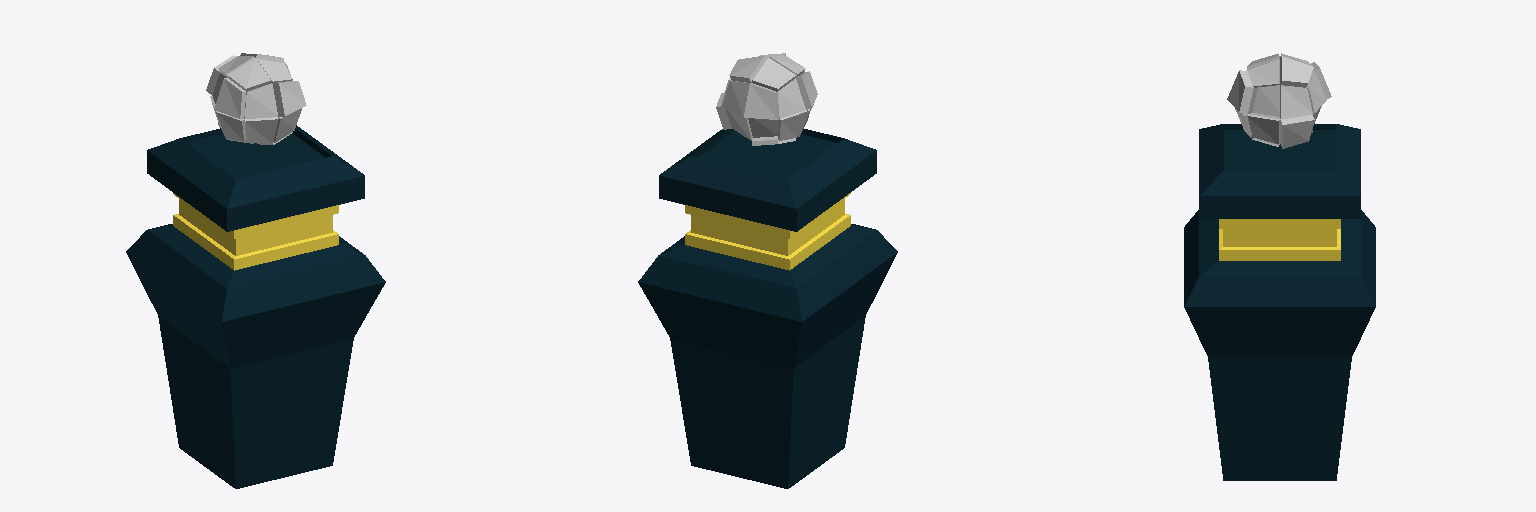
The picture shows the model from 3 angles: view 1: azimuth 30°, elevation 25°; view 2: azimuth 150°, elevation 25°; view 3: azimuth 270°, elevation 25°; orthographic projection.
Parts seen in each view (by area): view 1: Menu_Stand_Cube, Orb_Cube.002; view 2: Menu_Stand_Cube, Orb_Cube.002; view 3: Menu_Stand_Cube, Orb_Cube.002.
Part boxes in pixels (x1,y1,x2,y2): Menu_Stand_Cube: (126,125,385,488); Orb_Cube.002: (206,53,306,144); Menu_Stand_Cube: (638,129,897,488); Orb_Cube.002: (716,53,817,145); Menu_Stand_Cube: (1184,124,1375,480); Orb_Cube.002: (1227,53,1331,148).
Size of the model in its own units: 0.9719 by 2.27 by 0.9832.
Materials: 2 (1 with a texture image).